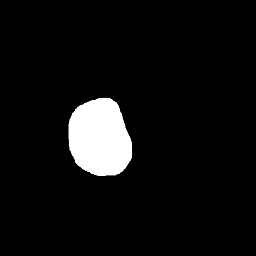mass: (71, 100, 134, 180)
